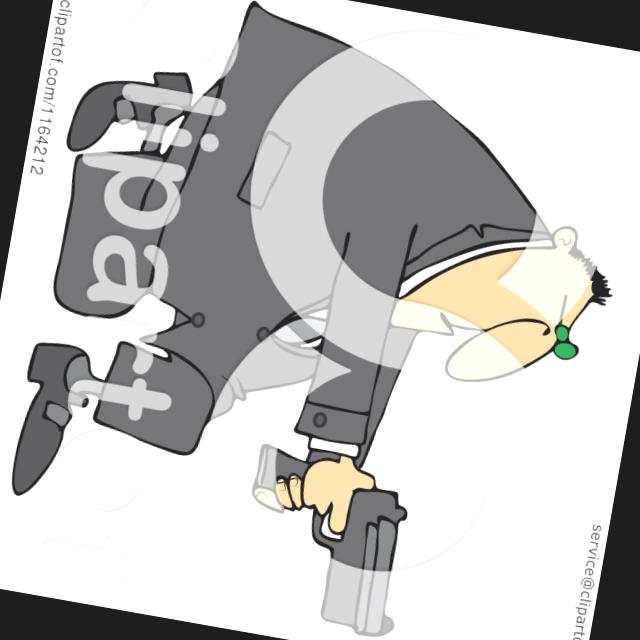handgun: (230, 442, 425, 639)
